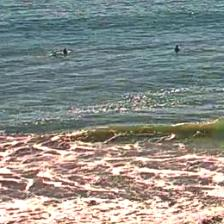surfer: (53, 48, 68, 56), (174, 45, 181, 53)
